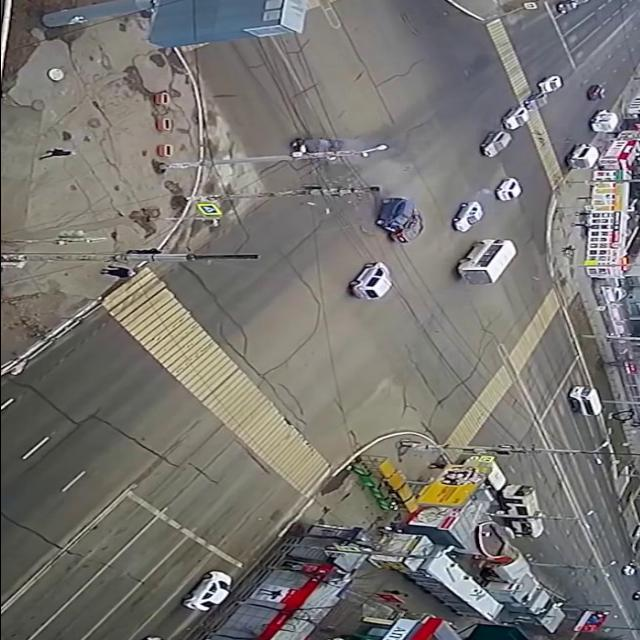accident: (284, 136, 364, 163), (372, 194, 420, 234)
non_accident: (474, 73, 566, 161)
